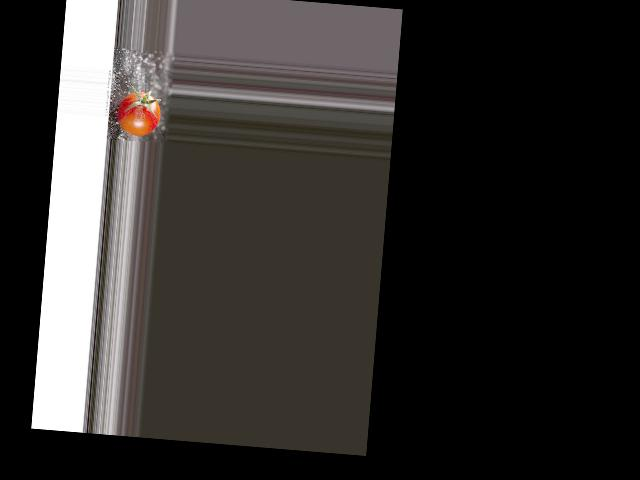tomato: (116, 90, 162, 137)
